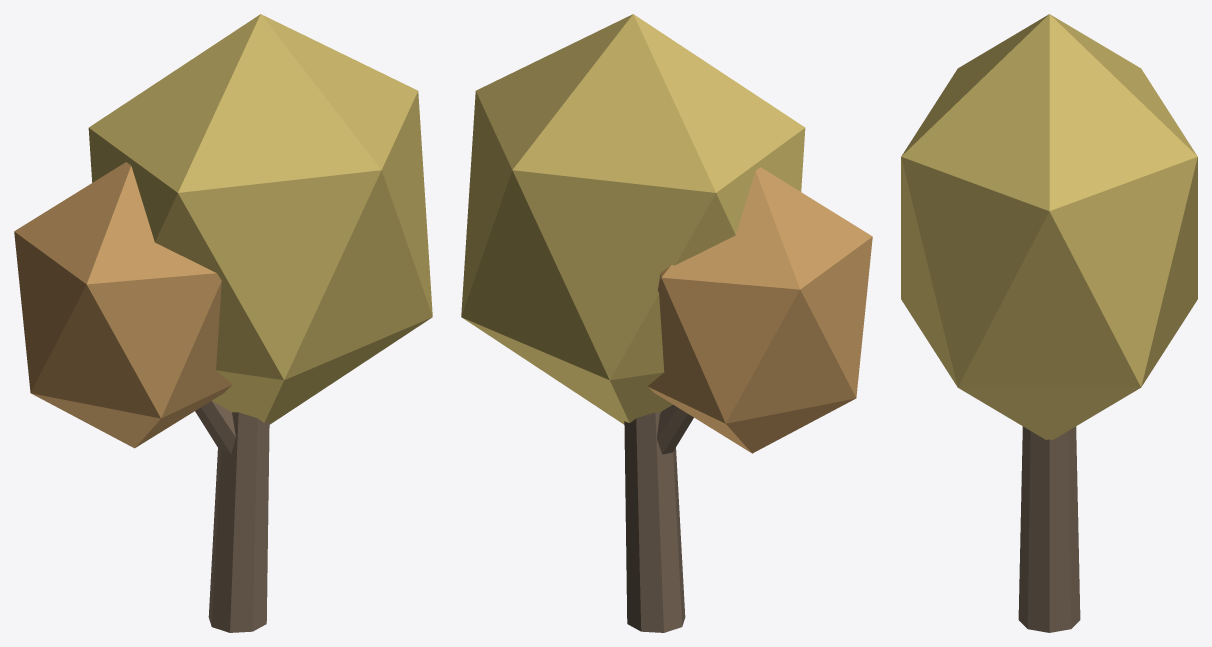
The picture shows the model from 3 angles, left to right: view 1: azimuth 30°, elevation 25°; view 2: azimuth 150°, elevation 25°; view 3: azimuth 270°, elevation 25°; orthographic projection. The views are drawn at different scales.
Visible parts, largest first — view 1: campus_tree_autumn_bare; view 2: campus_tree_autumn_bare; view 3: campus_tree_autumn_bare.
Part boxes in pixels (box(x1,y1,x2,y2)): campus_tree_autumn_bare: box(14, 14, 432, 632); campus_tree_autumn_bare: box(461, 14, 872, 632); campus_tree_autumn_bare: box(901, 14, 1197, 632).
Bounding box in the file's own units: 2.51 × 3.75 × 1.63.
Materials: 1 (1 with a texture image).
